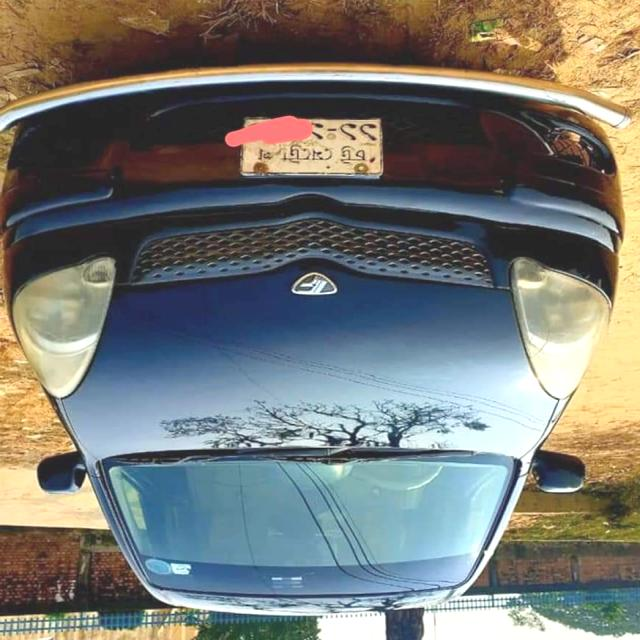blue: (15, 62, 608, 624)
